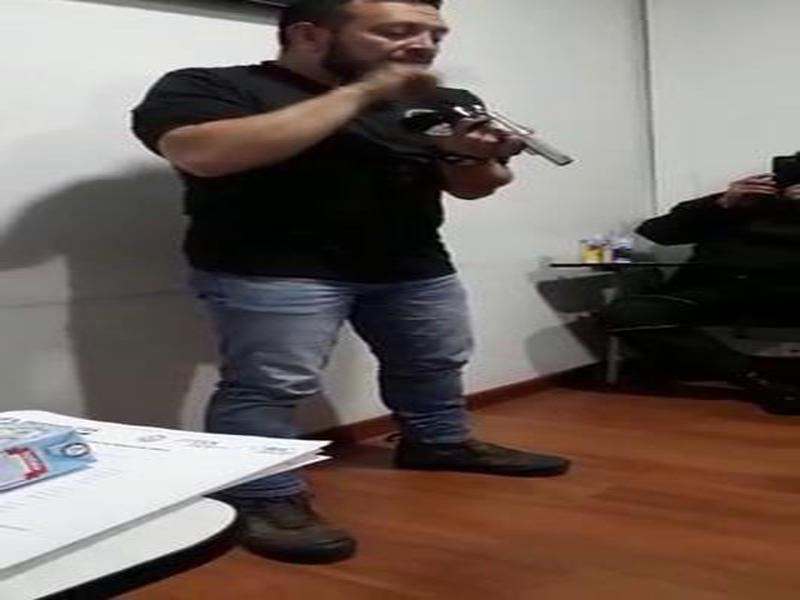Revolver: (438, 89, 594, 207)
